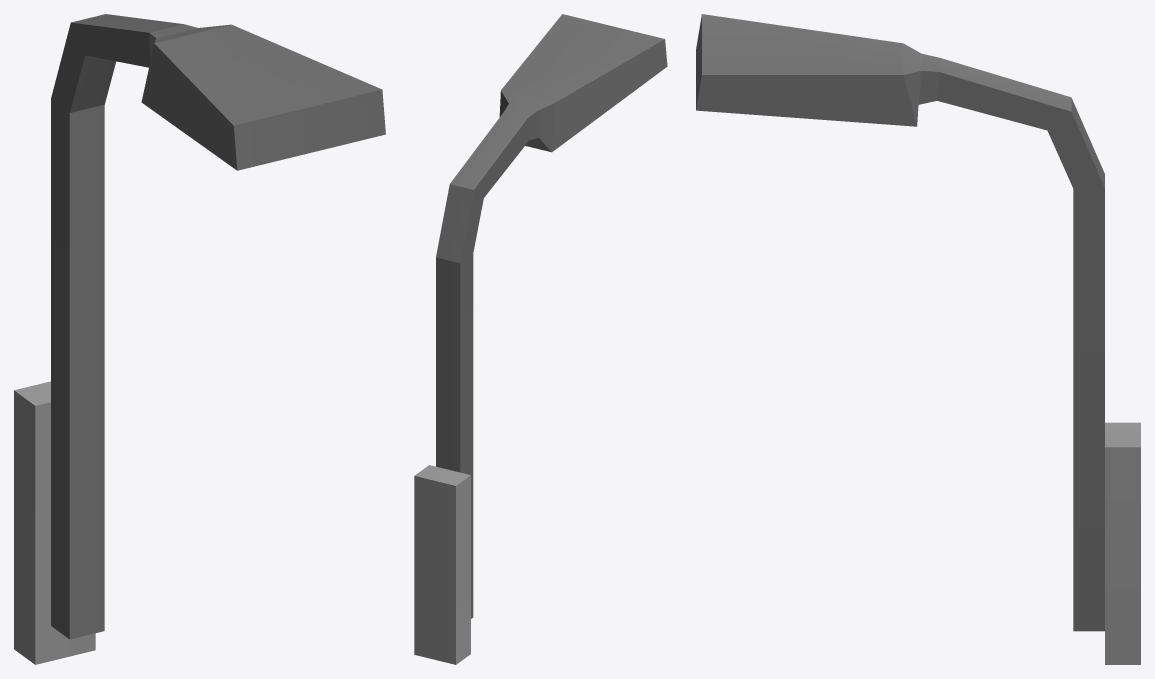
Rendered from B02_lampadaire.fbx.
3 views of the same model, side by side, from view 1: azimuth 30°, elevation 25°; view 2: azimuth 150°, elevation 25°; view 3: azimuth 270°, elevation 25° (orthographic). The views are drawn at different scales.
Visible parts, largest first — view 1: B02_lampadaire; view 2: B02_lampadaire; view 3: B02_lampadaire.
Boxes of the visible parts, left/top/right/bottom form: B02_lampadaire: left=14, top=14, right=385, bottom=664; B02_lampadaire: left=414, top=14, right=667, bottom=664; B02_lampadaire: left=696, top=14, right=1140, bottom=664.
Size of the model in its own units: 55.18 by 257 by 170.
